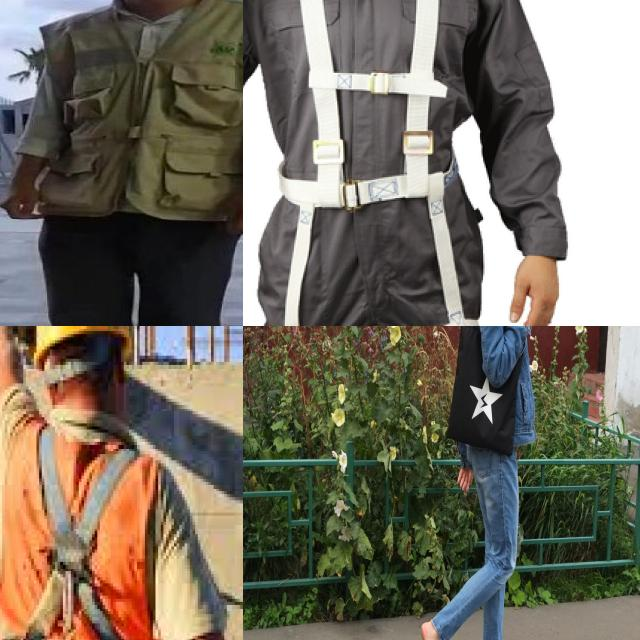Barefoots: (420, 621, 438, 640)
Harness: (259, 0, 487, 326), (0, 420, 167, 640)
hand_noglove: (0, 145, 59, 223), (207, 157, 243, 242)
person: (0, 0, 243, 326)
